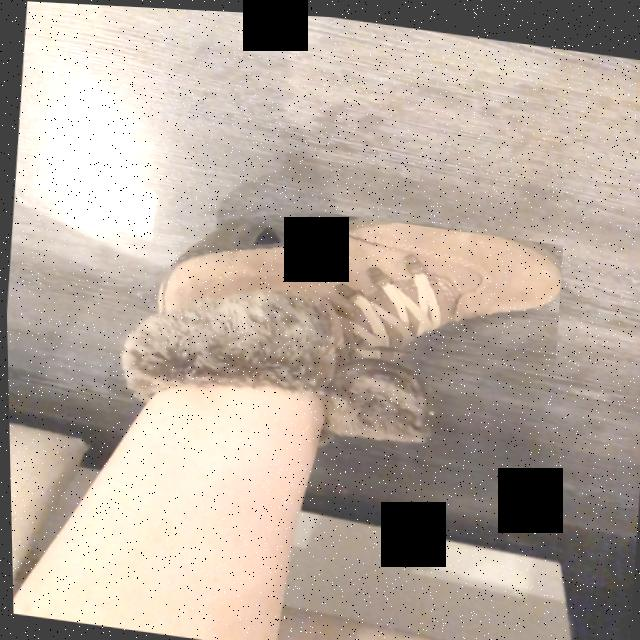shoe: (159, 215, 559, 349)
